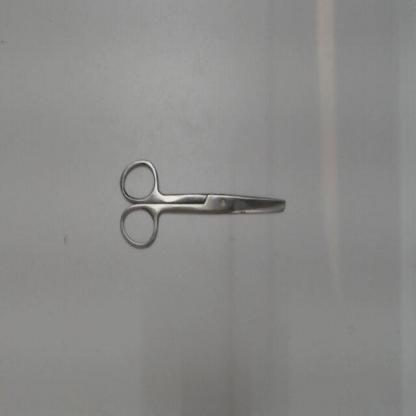Dressing Scissors: (112, 155, 294, 258)
